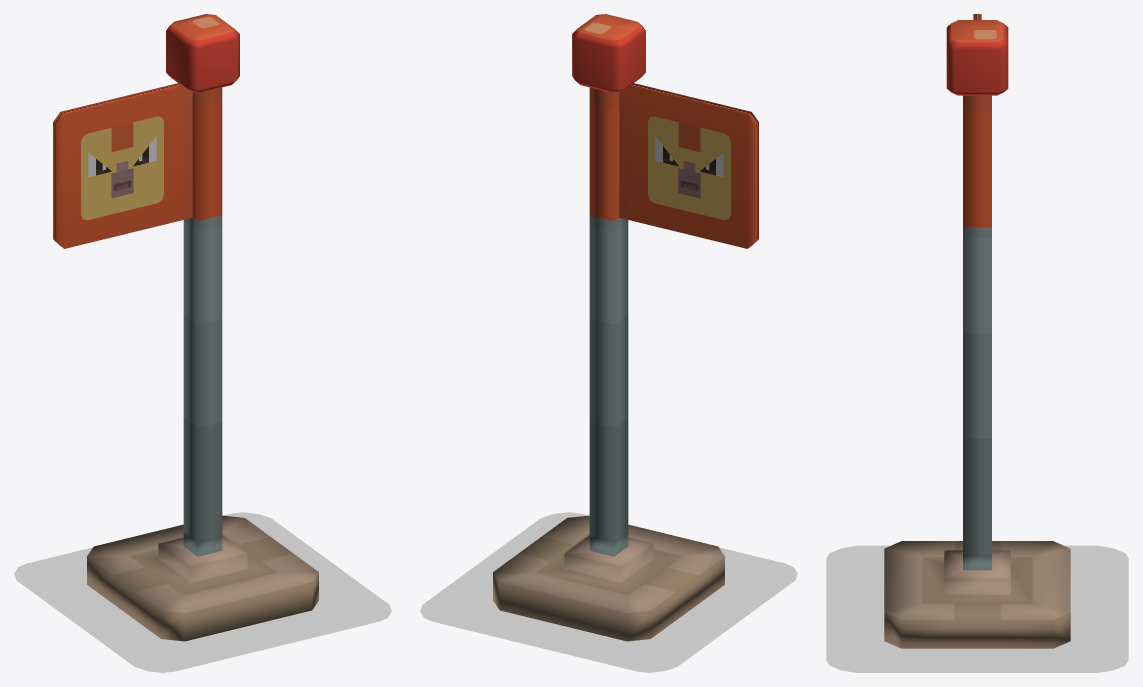
File: G_makeover_S_flag_7.fbx
The picture shows the model from 3 angles, left to right: view 1: azimuth 30°, elevation 25°; view 2: azimuth 150°, elevation 25°; view 3: azimuth 270°, elevation 25°; orthographic projection. The views are drawn at different scales.
Visible parts, largest first — view 1: pole, flag, ground; view 2: pole, flag, ground; view 3: pole, ground.
Boxes of the visible parts, bbox=[...] form: pole: bbox=[87, 14, 318, 641]; flag: bbox=[53, 83, 192, 248]; ground: bbox=[14, 512, 391, 672]; pole: bbox=[493, 14, 724, 641]; flag: bbox=[619, 83, 758, 248]; ground: bbox=[420, 512, 797, 672]; pole: bbox=[884, 20, 1070, 648]; ground: bbox=[826, 545, 1128, 672].
Size of the model in its own units: 3.49 by 6.88 by 3.24.
